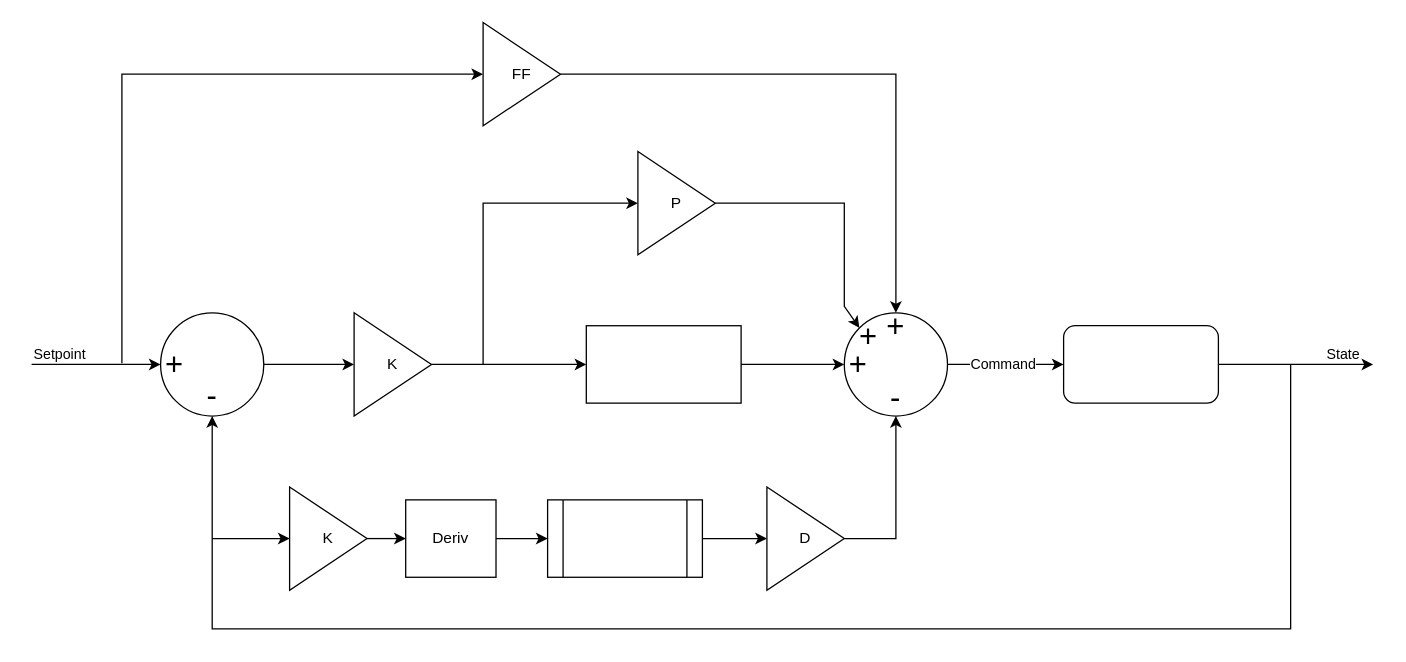
The diagram is 1406 pixels wide and 662 high, and some of its shapes have lost their labels. The centre of each missing label's shape, as x and y in pixels:
A(s): [1140,363]
DGLPF: [624,538]
I anti-windup: [663,363]
